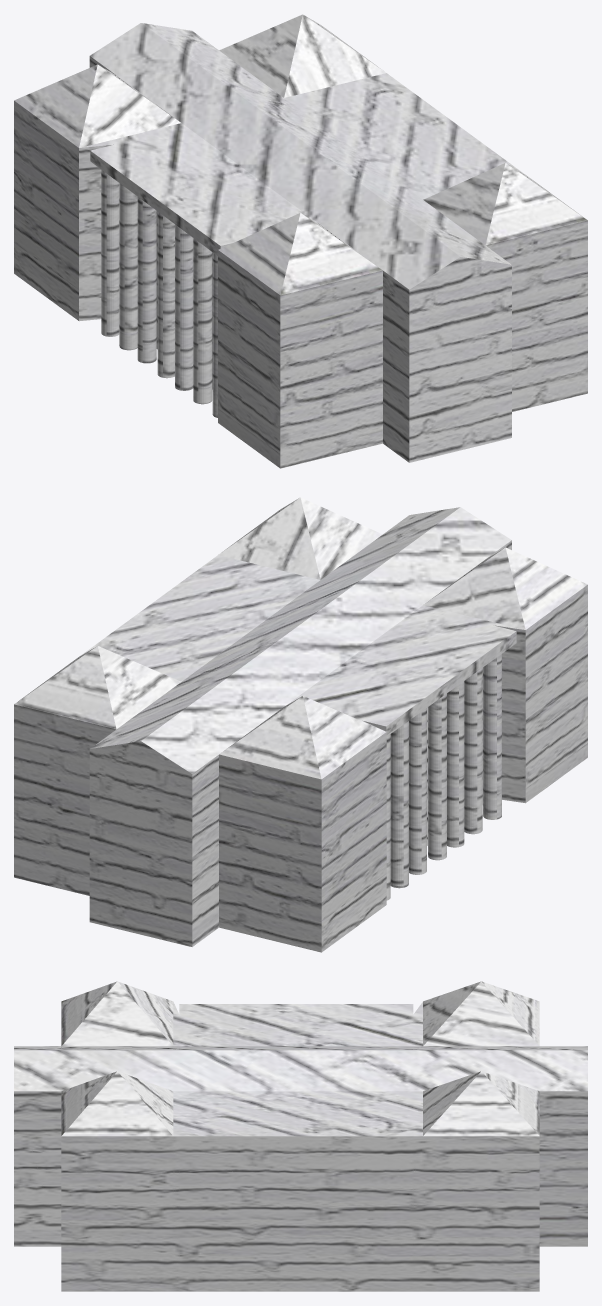
File: CornelioSaavedra.gltf
3 renders of one model, top to bottom at view 1: azimuth 30°, elevation 25°; view 2: azimuth 150°, elevation 25°; view 3: azimuth 270°, elevation 25°, orthographic. The views are drawn at different scales.
Parts seen in each view (by area): view 1: CornelioSaavedra; view 2: CornelioSaavedra; view 3: CornelioSaavedra.
Boxes of the visible parts, x1,y1,x2,y2 form: CornelioSaavedra: [14, 14, 587, 468]; CornelioSaavedra: [14, 497, 587, 952]; CornelioSaavedra: [14, 981, 587, 1291].
Bounding box in the file's own units: 1.01 × 0.7128 × 1.82.
1 material, 1 textured.
